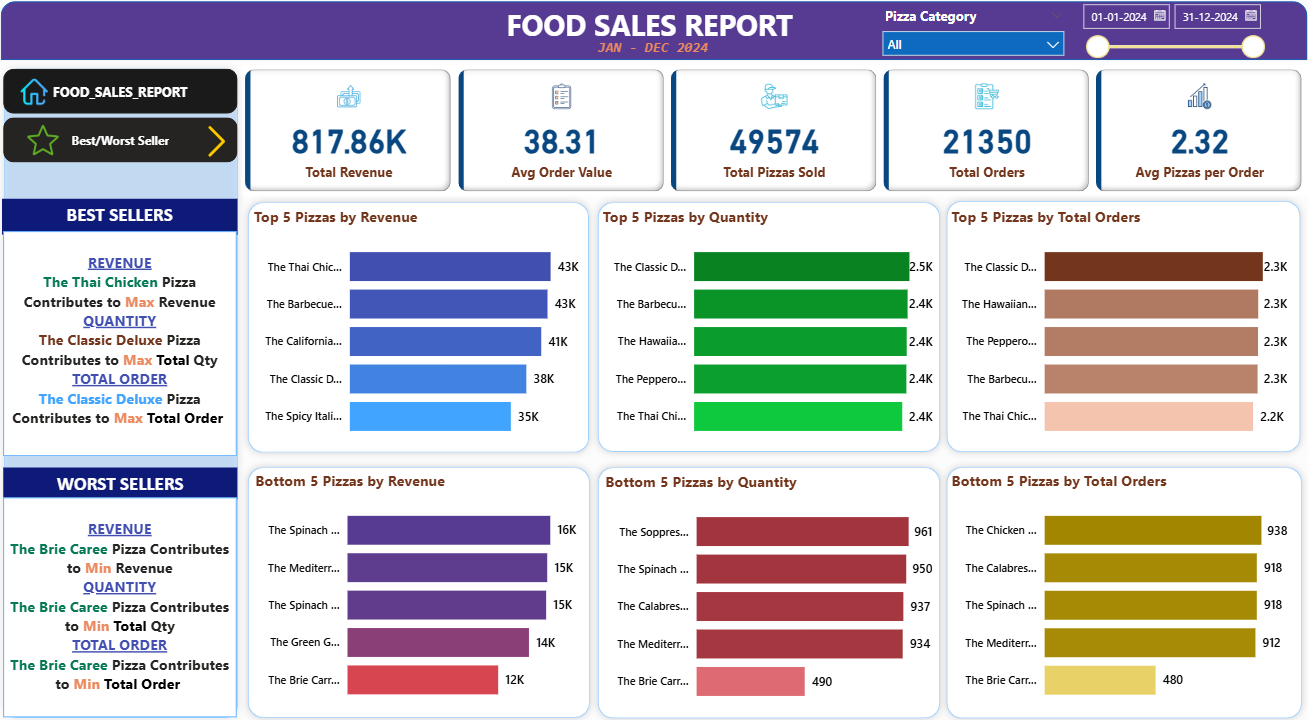

Layout of this report page (visuals, bound fields, positions):
{"tool":"powerbi","page":{"name":"Best/Worst Seller","canvas":[1500,820],"ordinal":1},"visuals":[{"type":"cardVisual","fields":{"Data":["pizza_sales.Total Revenue","pizza_sales.Avg Order Value","pizza_sales.Total Pizzas Sold","pizza_sales.Total Orders","pizza_sales.Avg Pizzas per Order"]},"box":[288.3,78,1189.3,146.2],"z":0},{"type":"shape","box":[21.4,7.1,1455.7,65.7],"z":1000},{"type":"shape","box":[288.6,222.9,396,295],"z":2000},{"type":"shape","box":[16.1,74,276.6,739.7],"z":3000},{"type":"slicer","fields":{"Values":["pizza_sales.pizza_category"]},"box":[992.9,8.6,222.9,64.3],"z":4000},{"type":"slicer","fields":{"Values":["pizza_sales.new_order_date"]},"box":[1214.3,0,222.9,72.9],"z":5000},{"type":"textbox","box":[22.5,226.7,262.1,40.2],"z":6000},{"type":"textbox","box":[24.1,263.7,260,250],"z":7000},{"type":"textbox","box":[24.1,525.8,260.5,35.4],"z":8000},{"type":"textbox","box":[24.1,559.6,260,244.4],"z":9000},{"type":"shape","box":[288.3,518.1,396.9,295.2],"z":10000},{"type":"shape","box":[678.6,517.8,397.2,295.9],"z":11000},{"type":"shape","box":[1066.1,517.8,411.7,295.9],"z":12000},{"type":"shape","box":[678.6,223.5,397.2,294.3],"z":13000},{"type":"shape","box":[1066.1,221.9,410.1,295.9],"z":14000},{"type":"barChart","title":"Top 5 Pizzas by Revenue","fields":{"Category":["pizza_sales.pizza_name"],"Y":["pizza_sales.Total Revenue"]},"box":[297.5,234.8,395.6,273.4],"z":15000},{"type":"barChart","title":"Bottom 5 Pizzas by Revenue","fields":{"Category":["pizza_sales.pizza_name"],"Y":["pizza_sales.Total Revenue"]},"box":[299.4,529.2,381.6,273],"z":16000},{"type":"barChart","title":"Top 5 Pizzas by Quantity","fields":{"Category":["pizza_sales.pizza_name"],"Y":["pizza_sales.Total Pizzas Sold"]},"box":[686.6,234.8,377.9,273.4],"z":17000},{"type":"barChart","title":"Bottom 5 Pizzas by Quantity","fields":{"Category":["pizza_sales.pizza_name"],"Y":["pizza_sales.Total Pizzas Sold"]},"box":[689.9,530.7,374.7,273.4],"z":18000},{"type":"barChart","title":"Top 5 Pizzas by Total Orders","fields":{"Category":["pizza_sales.pizza_name"],"Y":["pizza_sales.Total Orders"]},"box":[1075.8,234.8,384.3,273.4],"z":19000},{"type":"barChart","title":"Bottom 5 Pizzas by Total Orders","fields":{"Category":["pizza_sales.pizza_name"],"Y":["pizza_sales.Total Orders"]},"box":[1075.8,529.1,384.3,273.4],"z":20000},{"type":"pageNavigator","box":[23.3,81.7,261.7,50],"z":21000},{"type":"pageNavigator","box":[23.3,136.7,261.7,50],"z":22000},{"type":"image","box":[236.7,140,50,45],"z":23000},{"type":"image","box":[33.4,87.7,50.1,40.4],"z":24000},{"type":"image","box":[43.7,139.4,50,45],"z":25000},{"type":"textbox","box":[578.9,6.4,340.9,54.7],"z":26000},{"type":"textbox","box":[681,44.6,157.4,32],"z":27000}]}

Visuals, with their boxes in screenshot pixels (x1, y1, x2, y2), scaled from the page's 1500x820 canvas onto the 1308x720 screenshot:
cardVisual - pizza_sales.Total Revenue x pizza_sales.Avg Order Value: {"x1": 251, "y1": 68, "x2": 1288, "y2": 197}
shape: {"x1": 19, "y1": 6, "x2": 1288, "y2": 64}
shape: {"x1": 252, "y1": 196, "x2": 597, "y2": 455}
shape: {"x1": 14, "y1": 65, "x2": 255, "y2": 714}
slicer - pizza_sales.pizza_category: {"x1": 866, "y1": 8, "x2": 1060, "y2": 64}
slicer - pizza_sales.new_order_date: {"x1": 1059, "y1": 0, "x2": 1253, "y2": 64}
textbox: {"x1": 20, "y1": 199, "x2": 248, "y2": 234}
textbox: {"x1": 21, "y1": 232, "x2": 248, "y2": 451}
textbox: {"x1": 21, "y1": 462, "x2": 248, "y2": 493}
textbox: {"x1": 21, "y1": 491, "x2": 248, "y2": 706}
shape: {"x1": 251, "y1": 455, "x2": 597, "y2": 714}
shape: {"x1": 592, "y1": 455, "x2": 938, "y2": 714}
shape: {"x1": 930, "y1": 455, "x2": 1289, "y2": 714}
shape: {"x1": 592, "y1": 196, "x2": 938, "y2": 455}
shape: {"x1": 930, "y1": 195, "x2": 1287, "y2": 455}
"Top 5 Pizzas by Revenue" barChart: {"x1": 259, "y1": 206, "x2": 604, "y2": 446}
"Bottom 5 Pizzas by Revenue" barChart: {"x1": 261, "y1": 465, "x2": 594, "y2": 704}
"Top 5 Pizzas by Quantity" barChart: {"x1": 599, "y1": 206, "x2": 928, "y2": 446}
"Bottom 5 Pizzas by Quantity" barChart: {"x1": 602, "y1": 466, "x2": 928, "y2": 706}
"Top 5 Pizzas by Total Orders" barChart: {"x1": 938, "y1": 206, "x2": 1273, "y2": 446}
"Bottom 5 Pizzas by Total Orders" barChart: {"x1": 938, "y1": 465, "x2": 1273, "y2": 705}
pageNavigator: {"x1": 20, "y1": 72, "x2": 249, "y2": 116}
pageNavigator: {"x1": 20, "y1": 120, "x2": 249, "y2": 164}
image: {"x1": 206, "y1": 123, "x2": 250, "y2": 162}
image: {"x1": 29, "y1": 77, "x2": 73, "y2": 112}
image: {"x1": 38, "y1": 122, "x2": 82, "y2": 162}
textbox: {"x1": 505, "y1": 6, "x2": 802, "y2": 54}
textbox: {"x1": 594, "y1": 39, "x2": 731, "y2": 67}
